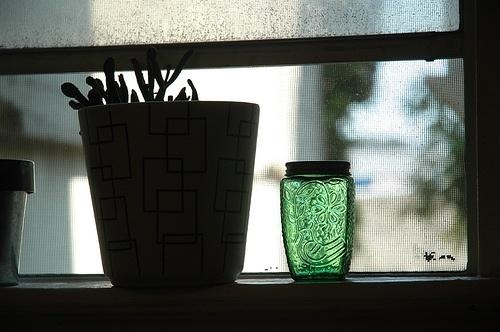pottedplant: (63, 42, 261, 287)
